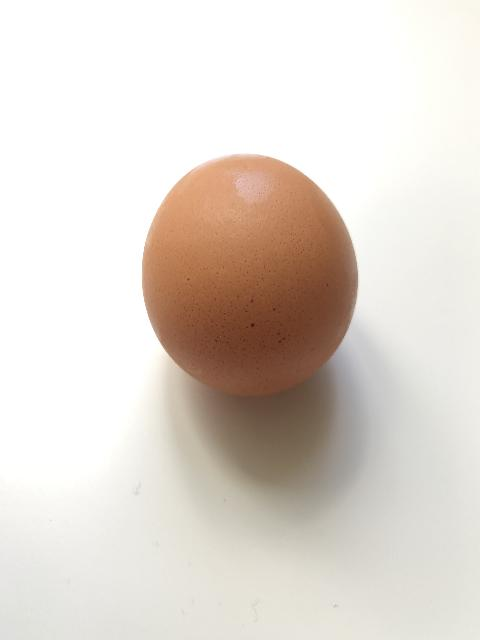Sano: (142, 152, 358, 398)
